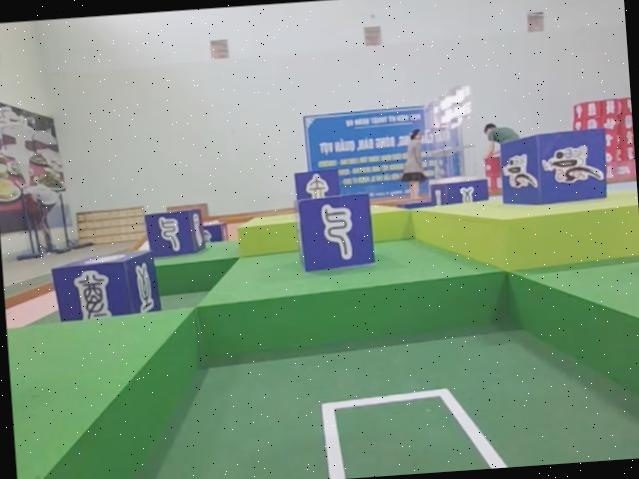R1 Blue: (497, 126, 610, 207)
R2 Fake Blue: (45, 250, 157, 323), (291, 191, 374, 273), (145, 208, 206, 259), (294, 166, 341, 200)
R2 Real Blue: (425, 178, 486, 207)
